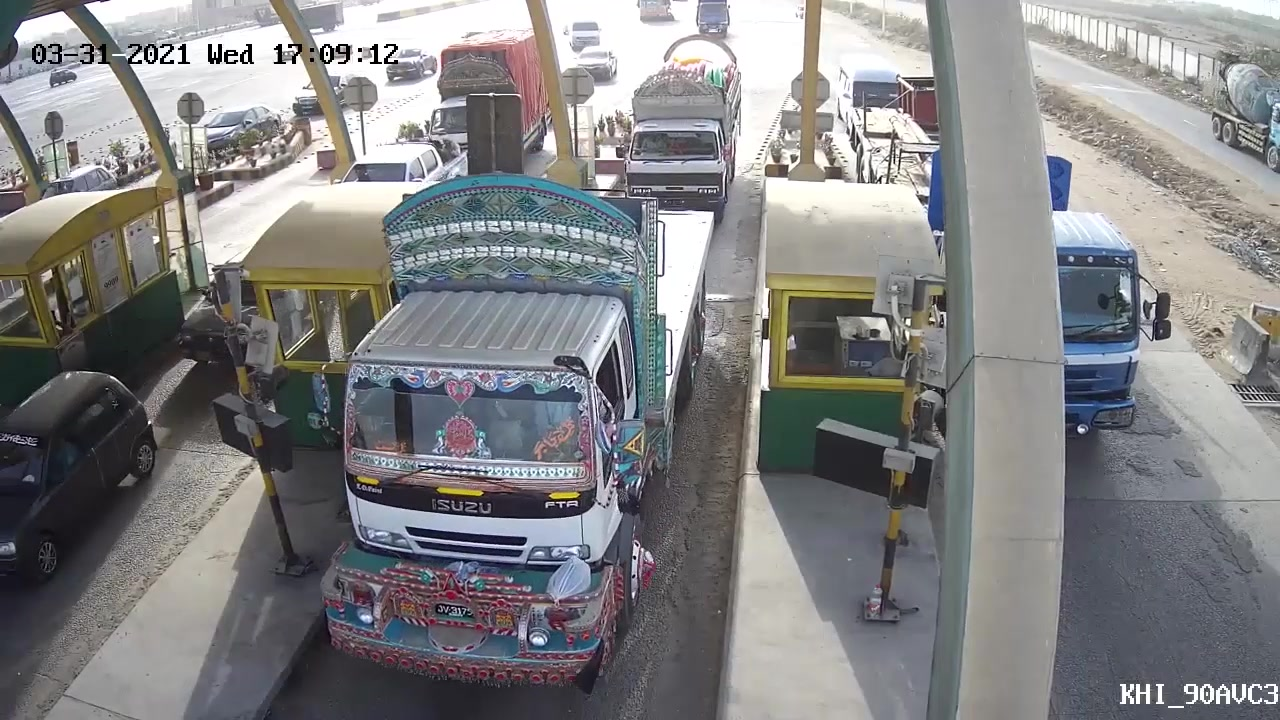F5: (294, 172, 724, 703)
